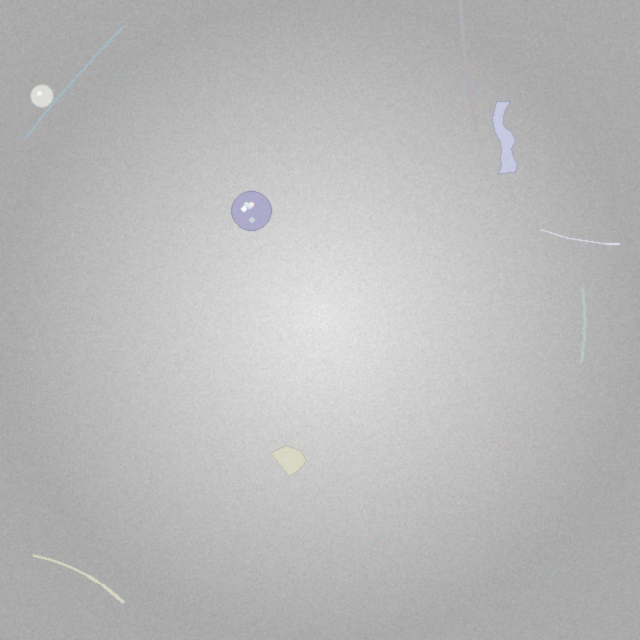fiber: (22, 25, 125, 142), (29, 552, 127, 606), (455, 0, 481, 136), (540, 228, 622, 246), (577, 286, 589, 367)
film: (493, 102, 517, 173)
foam: (232, 192, 271, 231)
fragment: (271, 446, 306, 476)
pellet: (30, 84, 54, 107)
